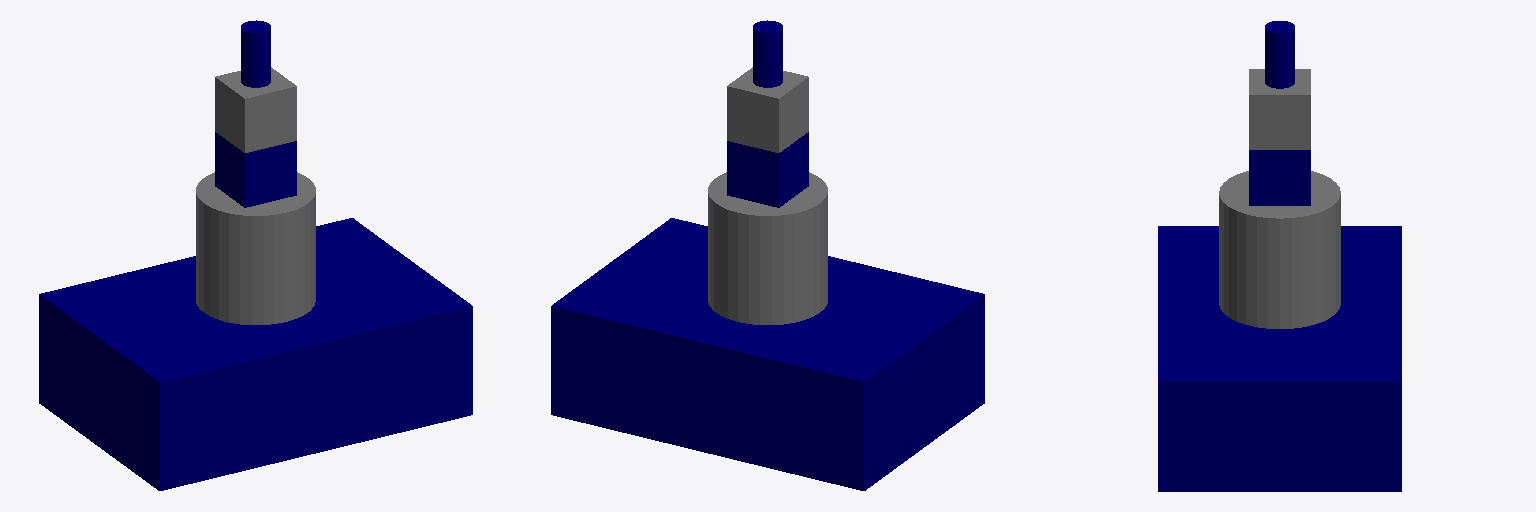
The robot description file, URDF, robot "my_robot":
<?xml version="1.0"?> <!-- This is for VS code recongized as XML files -->

<!-- robot tag -->

 <!-- robot name -->
<robot name="my_robot">   <!-- start -->

    <!--  create material tag for change color -->
    <material name="blue">
        <color rgba="0 0 0.5 1" /> <!-- a = transparency(1 = no transparency) (each value be a number between 0-1) -->
    </material>
    <material name="grey">
        <color rgba="0.5 0.5 0.5 1" /> 
    </material>
    
<!-- //////////////////////////////////////////////////////////////////////////////////////////////////////////// -->

    <!-- create base link(rigit part) -->
    <link name="base_link">
        <visual>
        <geometry>

            <!-- create shape of link (meters) -->
            <box size="0.6 0.4 0.2" /> <!-- size = "long wide high" -->

        </geometry>

        <!-- create origin of visual for xyz in translation and rpy in rotation -->
        <origin xyz="0 0 0.1" rpy="0 0 0" /> <!-- z = +0.1 for lifted link to on the ground -->

        <!-- change color -->
            <material name="blue" />

        </visual>
    </link>

<!-- //////////////////////////////////////////////////////////////////////////////////////////////////////////// -->

    <!-- create second link(rigit part) -->
    <link name="second_link">
    <visual>
        <geometry>

            <!-- create shape of link with cylinder (meters) -->
            <cylinder radius="0.1" length="0.2" />

        </geometry>
        <origin xyz="0 0 0.1" rpy="0 0 0" /> 
        <material name="grey" />
    </visual>
    </link>

<!-- //////////////////////////////////////////////////////////////////////////////////////////////////////////// -->

    <link name="third_link">
        <visual>
        <geometry>
            <box size="0.1 0.1 0.1" />
        </geometry>
        <origin xyz="0 0 0.05" rpy="0 0 0" /> 
            <material name="blue" />
        </visual>
    </link>

<!-- //////////////////////////////////////////////////////////////////////////////////////////////////////////// -->

    <link name="fourth_link">
        <visual>
        <geometry>
            <box size="0.1 0.1 0.1" />
        </geometry>
        <origin xyz="0 0 0.05" rpy="0 0 0" /> 
            <material name="grey" />
        </visual>
    </link>

<!-- //////////////////////////////////////////////////////////////////////////////////////////////////////////// -->


    <link name="fifth_link">
        <visual>
            <geometry>
    
                <!-- create shape of link with cylinder (meters) -->
                <cylinder radius="0.025" length="0.1" />
    
            </geometry>
            <origin xyz="0 0 0.1" rpy="0 0 0" /> 
            <material name="blue" />
        </visual>
        </link>

<!-- //////////////////////////////////////////////////////////////////////////////////////////////////////////// -->

    <!-- create joint for pair link -->
    <joint name="base_second_joint" type="fixed"> <!-- "fixed" = two links are pair but not move -->

        <!-- set connection of joint -->
        <parent link="base_link" /> <!-- base_link owns this joint -->
        <child link="second_link" />

        <!-- origin of joint -->
        <origin xyz="0 0 0.2" rpy="0 0 0" /> <!-- recommend to put 0 in origin first time every link and joint, then fix later-->
    </joint>   

<!-- //////////////////////////////////////////////////////////////////////////////////////////////////////////// -->

    <joint name="second_third_joint" type="revolute"> <!-- see mean of type in google "urdf/xml" -->
        <parent link="second_link" /> 
        <child link="third_link" />
        <origin xyz="0 0 0.2" rpy="0 0 0" /> 
        <!-- for revolute type -->
        <axis xyz="0 0 1" /> <!-- rotation on z axis but no rotation on x,y axis -->
        <limit lower="-1.57" upper="1.57" velocity="100" effort="100"/> <!-- lower = minimum of angle(radian) (-1.57 radian = -90 degree)-->
                                                                        <!-- upper = maximum of angle(radian) -->
                                                                        <!-- velo and effort are not to be consider now but you can see what mean in google -->
    </joint>    

<!-- //////////////////////////////////////////////////////////////////////////////////////////////////////////// -->

    <joint name="third_fourth_joint" type="continuous"> <!-- same as revolute but no limit (recommend use in wheel) -->
        <parent link="third_link" /> 
        <child link="fourth_link" />
        <origin xyz="0 0 0.1" rpy="0 0 0" /> 
        <!-- for continuous type -->
        <axis xyz="0 1 0" /> <!-- rotation on y axis but no rotation on x,z axis -->
        
    </joint> 

<!-- //////////////////////////////////////////////////////////////////////////////////////////////////////////// -->

    <joint name="fourth_fifth_joint" type="prismatic"> <!-- sliding joint -->
        <parent link="fourth_link" /> 
        <child link="fifth_link" />
        <origin xyz="0 0 0.05" rpy="0 0 0" /> 
        <!-- for prismatic type -->
        <axis xyz="1 0 0" /> <!-- slide on x axis but no slide on y,z axis -->
        <limit lower="-0.025" upper="0.025" velocity="100" effort="100"/>   <!-- lower = minimum of distance to slide(meters) -->
                                                                            <!-- upper = maximum of distance to slide(meters) -->
        
    </joint>

</robot> <!-- stop -->

--- Facts derived from the render (not from the file) ---
Views: 3 orthographic renders of the robot side by side, from view 1: azimuth 30°, elevation 25°; view 2: azimuth 150°, elevation 25°; view 3: azimuth 270°, elevation 25°.
Model my_robot with 5 links and 4 joints (1 revolute, 1 continuous, 1 prismatic, 1 fixed), rooted at base_link, posed all joints at 0.
Visible links, largest first — view 1: base_link, second_link, fourth_link, third_link, fifth_link; view 2: base_link, second_link, fourth_link, third_link, fifth_link; view 3: base_link, second_link, fourth_link, third_link, fifth_link.
Link boxes in pixels (<box>): base_link: <box>39,218,472,490</box>; second_link: <box>196,172,315,324</box>; fourth_link: <box>215,67,296,152</box>; third_link: <box>215,132,296,207</box>; fifth_link: <box>241,20,270,87</box>; base_link: <box>551,218,984,490</box>; second_link: <box>708,172,827,324</box>; fourth_link: <box>727,67,808,152</box>; third_link: <box>727,132,808,207</box>; fifth_link: <box>753,20,782,87</box>; base_link: <box>1158,226,1401,491</box>; second_link: <box>1219,171,1340,328</box>; fourth_link: <box>1249,69,1310,149</box>; third_link: <box>1249,150,1310,205</box>; fifth_link: <box>1265,21,1294,88</box>.
Size in the robot's own frame: 0.6 by 0.4 by 0.7 metres.
Geometry: primitives only (box / cylinder / sphere), no mesh files.